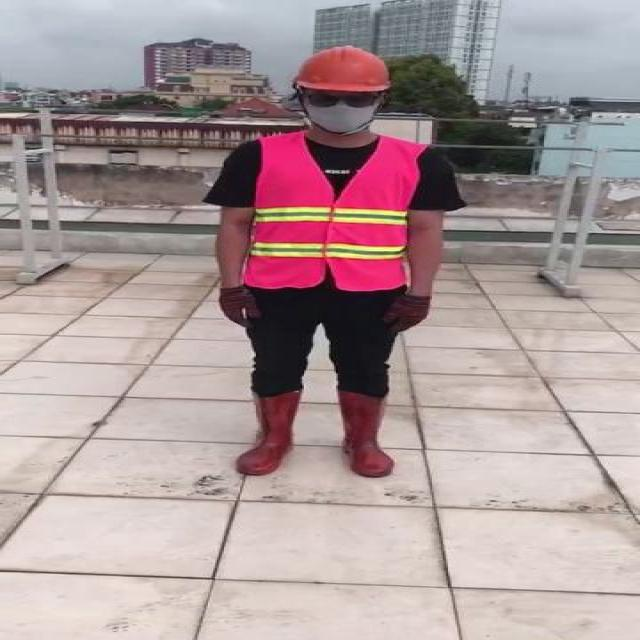boots: (233, 389, 302, 475), (334, 391, 395, 477)
face_mask: (301, 88, 387, 136)
glasses: (304, 90, 379, 110)
hand_glove: (384, 295, 432, 334), (218, 288, 260, 330)
head_helmet: (292, 44, 394, 92)
person: (207, 46, 445, 486)
vest: (249, 136, 419, 289)
